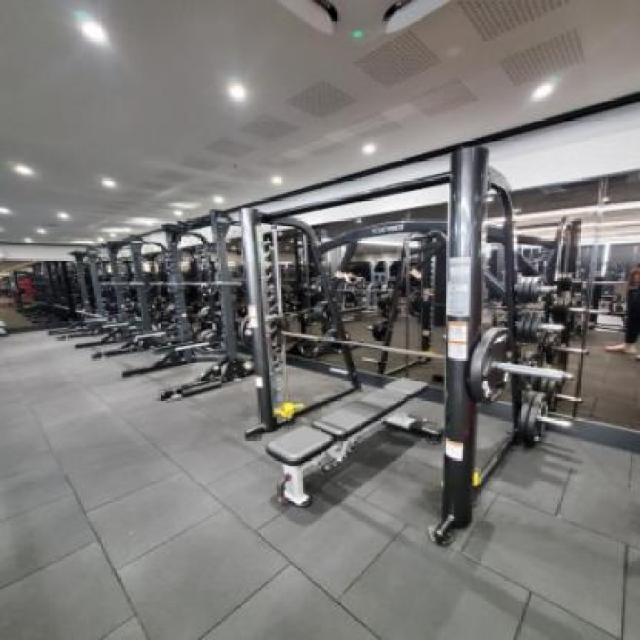smith machine: (232, 148, 537, 548)
